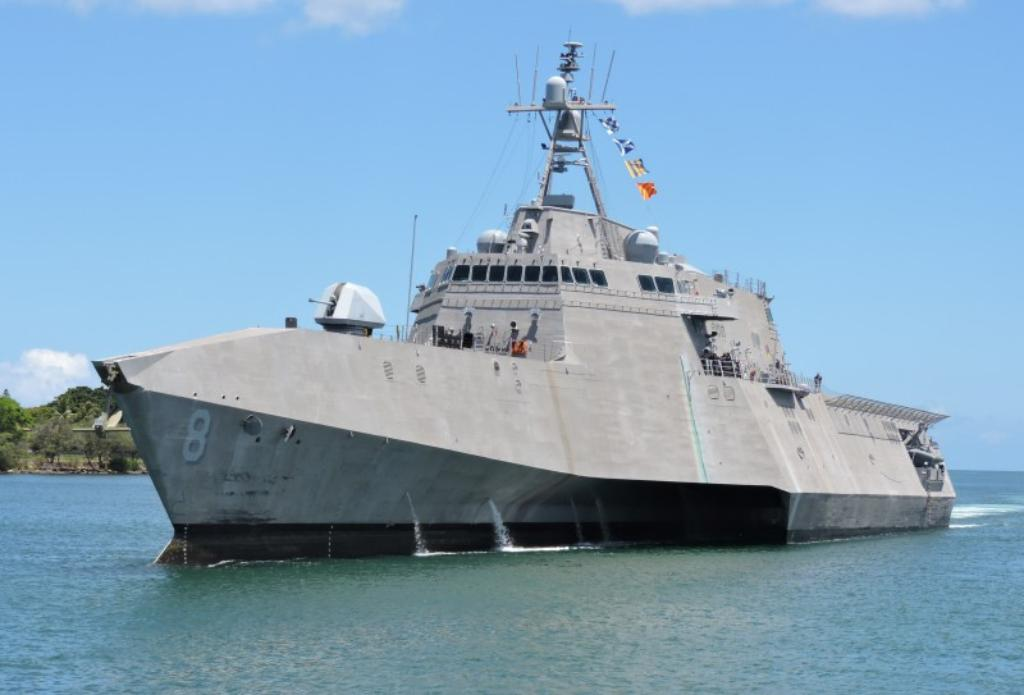Warship: (92, 36, 958, 568)
